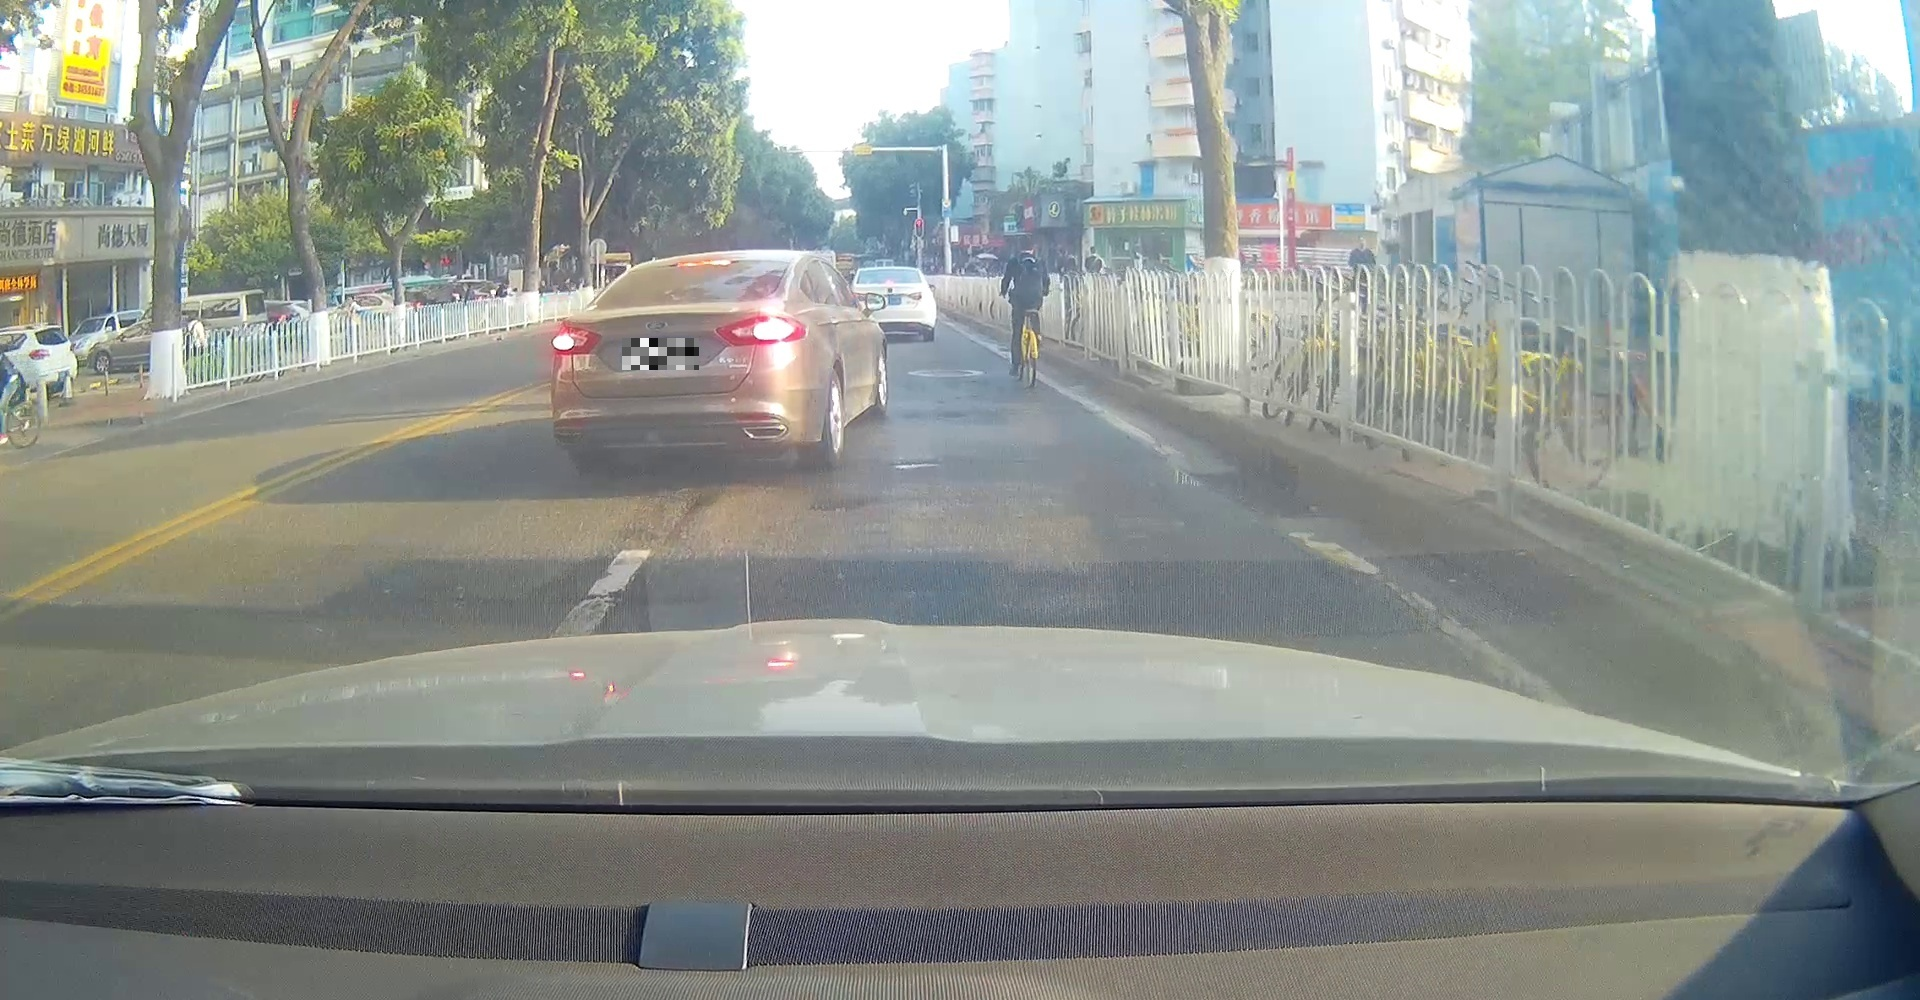L_light: (549, 321, 603, 357)
R_light: (714, 313, 808, 346)
T_light: (676, 259, 730, 266)
day-brake: (550, 251, 808, 473)
plate_1: (622, 338, 698, 371)
